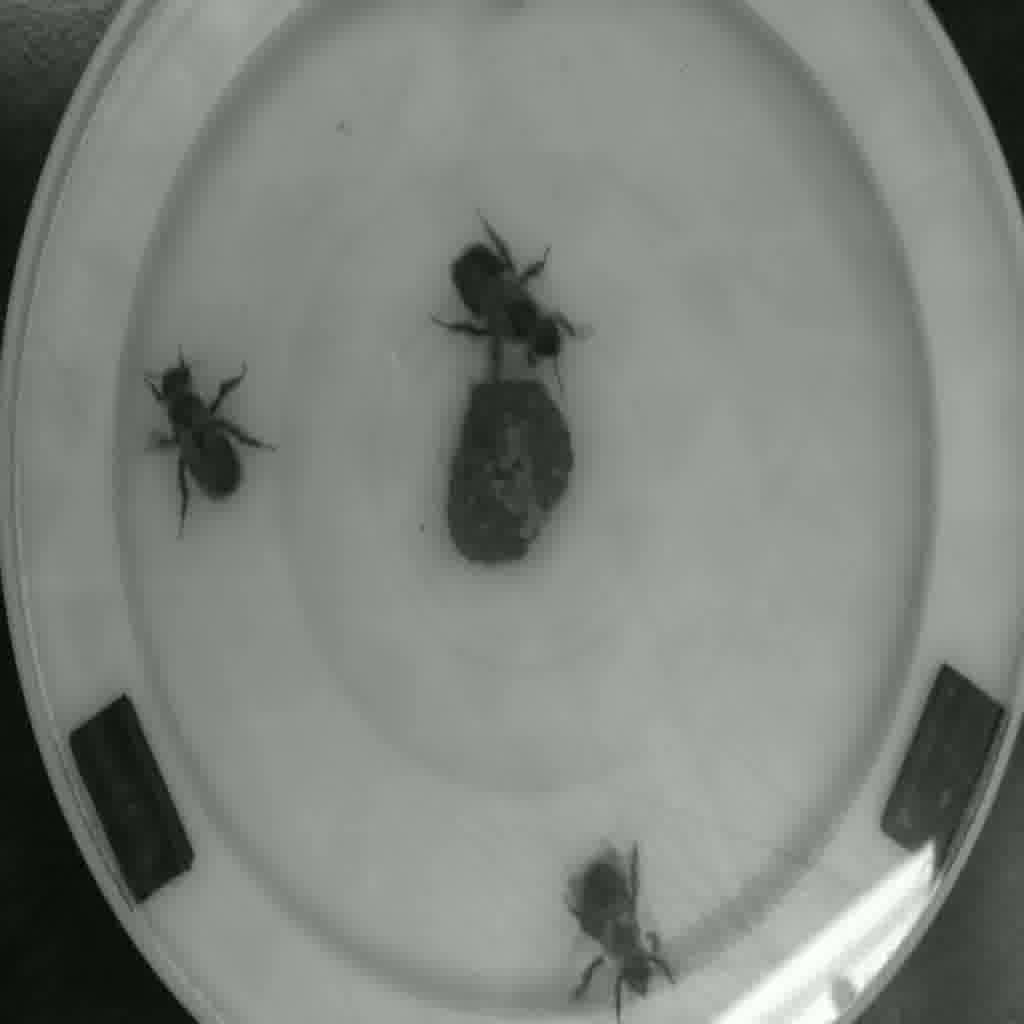bee: (546, 837, 688, 1024), (441, 234, 593, 396), (127, 349, 273, 508)
